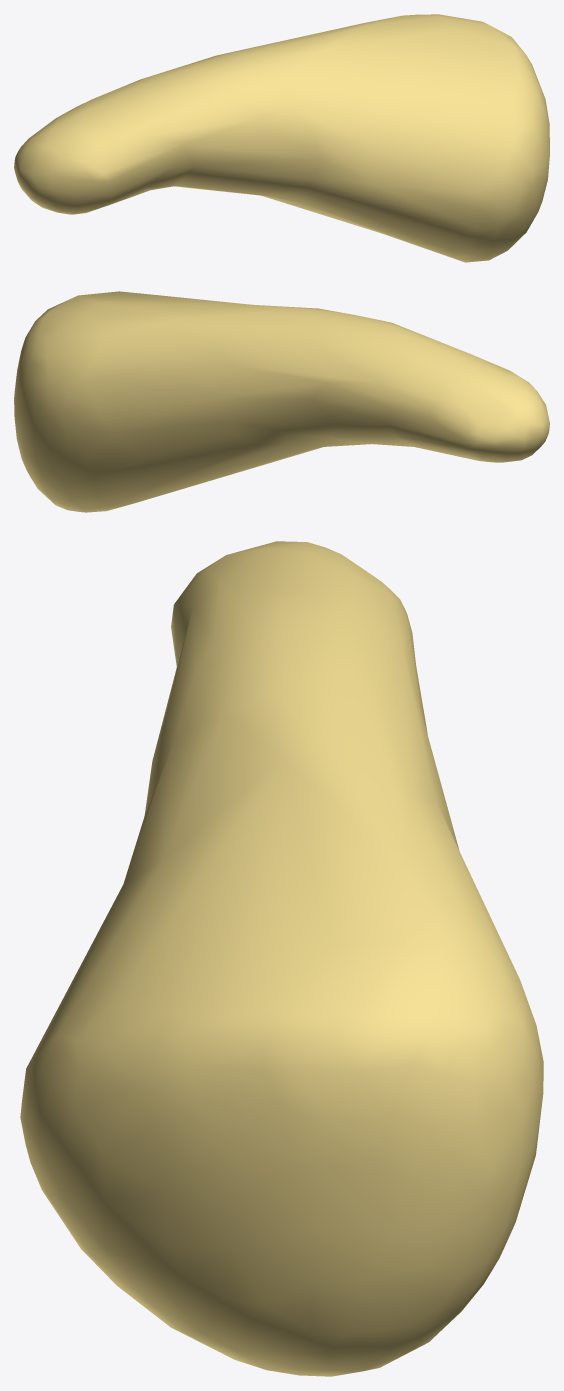
File: fma73462.glb
3 views of the same model, one above another, from view 1: azimuth 30°, elevation 25°; view 2: azimuth 150°, elevation 25°; view 3: azimuth 270°, elevation 25° (orthographic). The views are drawn at different scales.
Visible parts, largest first — view 1: FMA73462; view 2: FMA73462; view 3: FMA73462.
Boxes of the visible parts, x1,y1,x2,y2 form: FMA73462: (14, 14, 549, 262); FMA73462: (14, 291, 549, 512); FMA73462: (20, 541, 543, 1376).
Size of the model in its own units: 0.0143 by 0.00655 by 0.00647.
